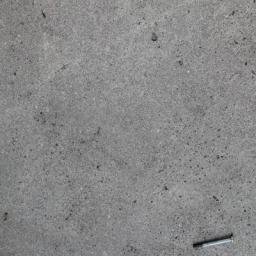FOD: (190, 232, 238, 256)
